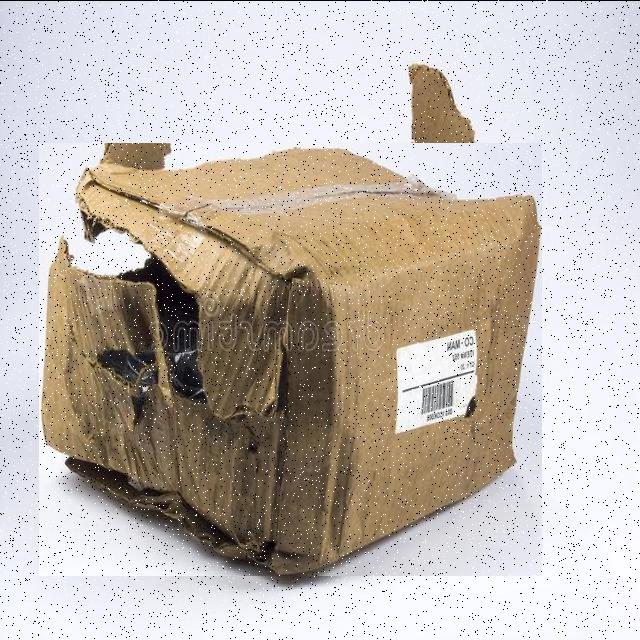defect: (39, 142, 542, 575)
